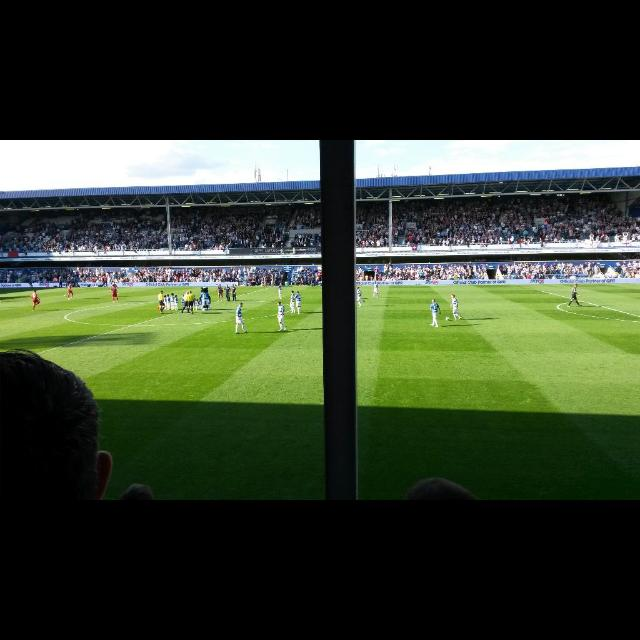Football: (446, 316, 448, 320)
